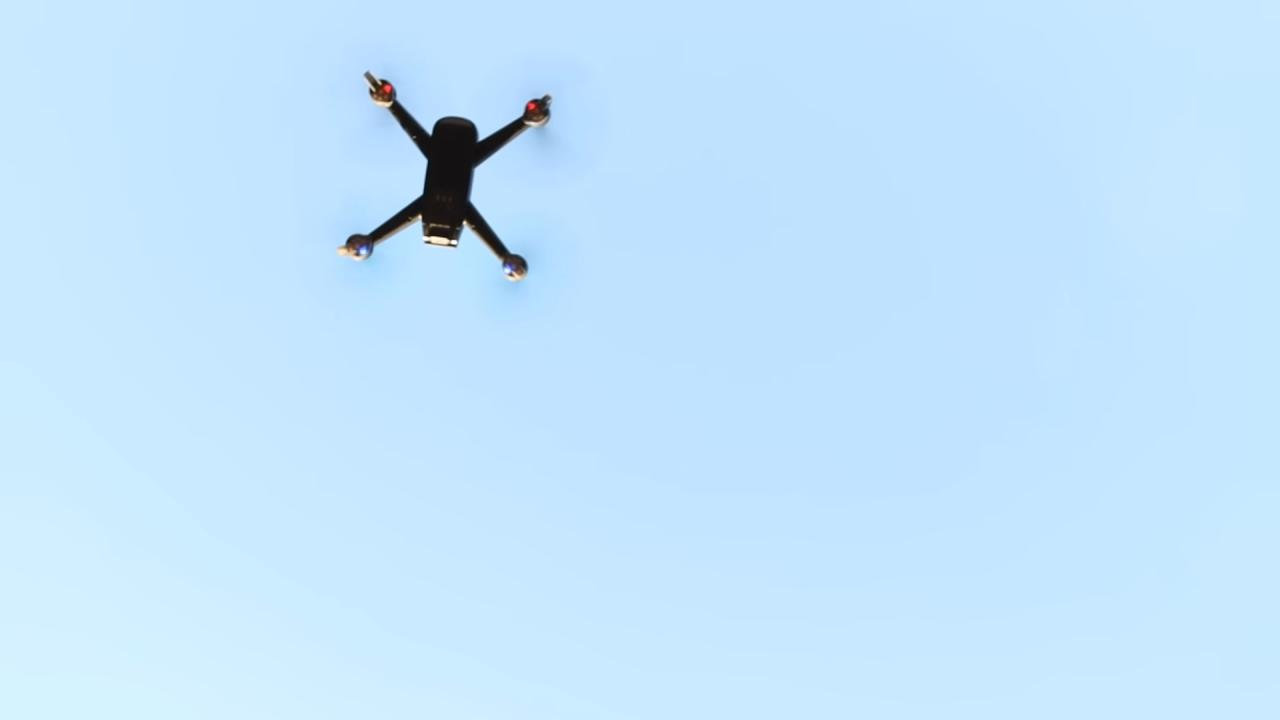Drone: (312, 53, 566, 304)
